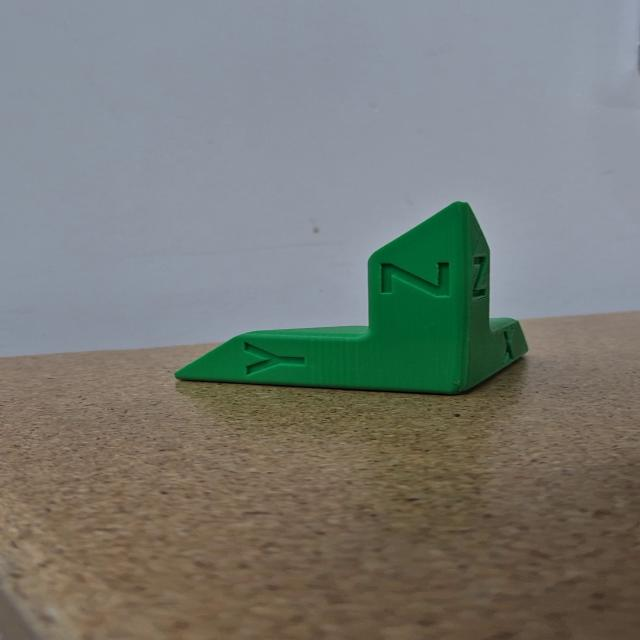objects: (167, 195, 535, 402)
